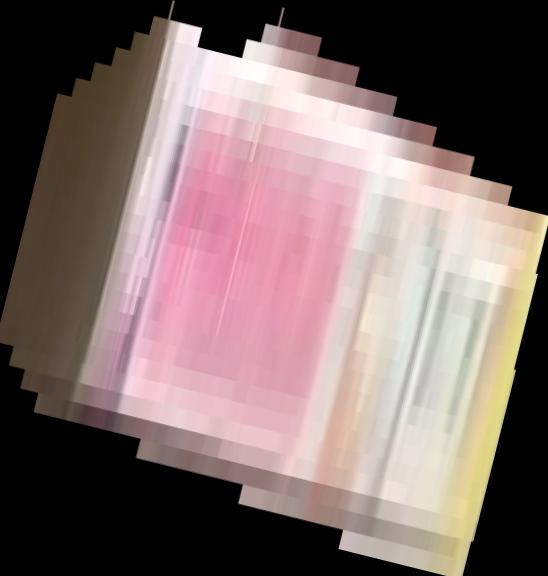flat: (1, 1, 548, 576)
